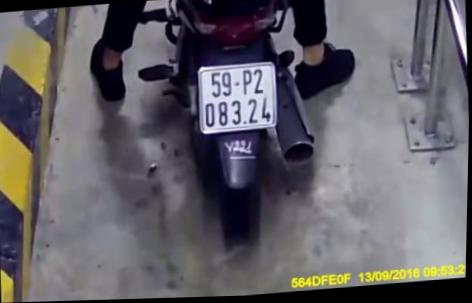LP: (197, 60, 280, 134)
